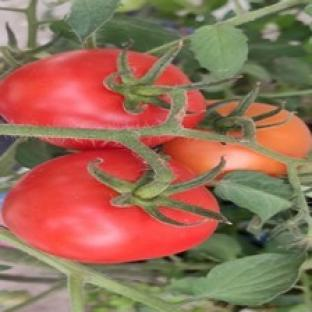Tomato: (3, 148, 217, 263), (0, 49, 168, 129), (165, 138, 286, 175)
